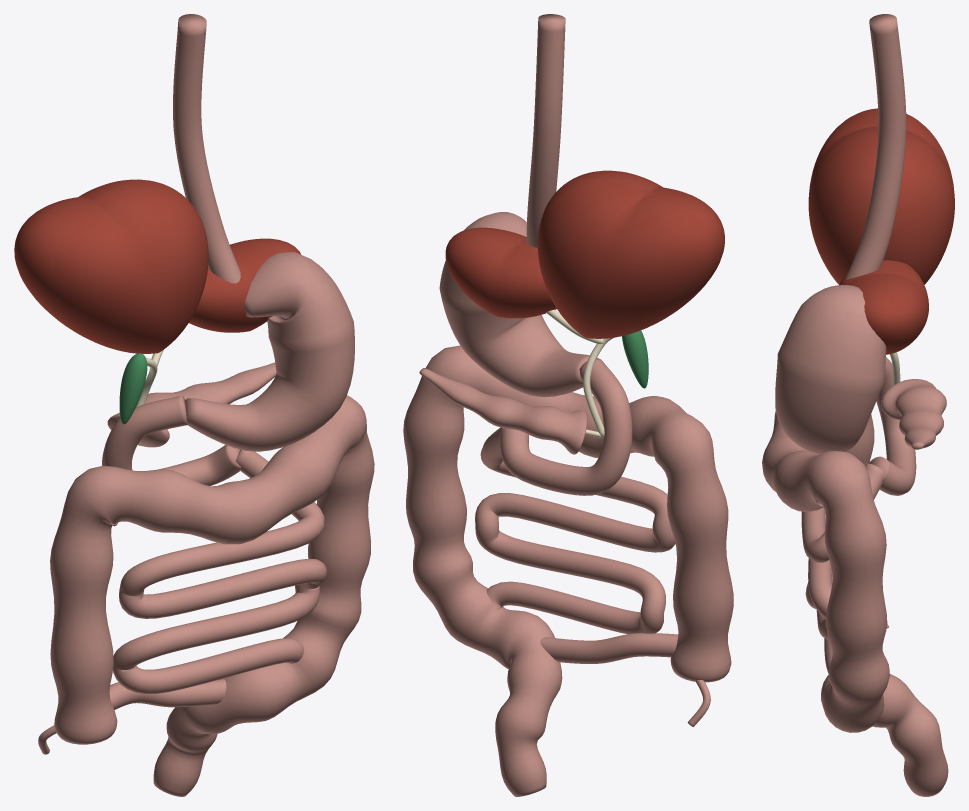
File: digestive-tract.glb
3 views of the same model, side by side, from view 1: azimuth 30°, elevation 25°; view 2: azimuth 150°, elevation 25°; view 3: azimuth 270°, elevation 25° (orthographic). The views are drawn at different scales.
Parts seen in each view (by area): view 1: Caecum colon sigmoid and rectum, Liver larger anatomical right lobe, Continuous simplified jejunum and ileum, Stomach cardia fundus body antrum and pylorus, Oesophagus into gastric cardia, Duodenal C loop and duodenojejunal flexure, Liver tapering left lobe, Pancreas lobulated head body and tapered tail, Gallbladder attached below liver; view 2: Caecum colon sigmoid and rectum, Liver larger anatomical right lobe, Continuous simplified jejunum and ileum, Stomach cardia fundus body antrum and pylorus, Liver tapering left lobe, Duodenal C loop and duodenojejunal flexure, Oesophagus into gastric cardia, Pancreas lobulated head body and tapered tail, Gallbladder attached below liver, Cystic duct and common bile duct; view 3: Caecum colon sigmoid and rectum, Liver larger anatomical right lobe, Stomach cardia fundus body antrum and pylorus, Oesophagus into gastric cardia, Liver tapering left lobe, Pancreas lobulated head body and tapered tail, Continuous simplified jejunum and ileum, Duodenal C loop and duodenojejunal flexure.
Part boxes in pixels (<box>): Caecum colon sigmoid and rectum: <box>50,395,374,796</box>; Liver larger anatomical right lobe: <box>14,179,208,353</box>; Continuous simplified jejunum and ileum: <box>109,449,326,709</box>; Stomach cardia fundus body antrum and pylorus: <box>185,251,354,451</box>; Oesophagus into gastric cardia: <box>173,14,240,283</box>; Duodenal C loop and duodenojejunal flexure: <box>102,395,241,485</box>; Liver tapering left lobe: <box>189,238,301,332</box>; Pancreas lobulated head body and tapered tail: <box>107,362,276,447</box>; Gallbladder attached below liver: <box>119,353,147,424</box>; Caecum colon sigmoid and rectum: <box>403,345,733,796</box>; Liver larger anatomical right lobe: <box>537,170,724,338</box>; Continuous simplified jejunum and ileum: <box>475,427,678,663</box>; Stomach cardia fundus body antrum and pylorus: <box>439,212,598,397</box>; Liver tapering left lobe: <box>445,227,556,318</box>; Duodenal C loop and duodenojejunal flexure: <box>500,358,632,495</box>; Oesophagus into gastric cardia: <box>526,14,565,247</box>; Pancreas lobulated head body and tapered tail: <box>419,368,587,454</box>; Gallbladder attached below liver: <box>622,330,648,388</box>; Cystic duct and common bile duct: <box>583,337,613,436</box>; Caecum colon sigmoid and rectum: <box>762,411,948,796</box>; Liver larger anatomical right lobe: <box>808,108,954,284</box>; Stomach cardia fundus body antrum and pylorus: <box>775,285,886,454</box>; Oesophagus into gastric cardia: <box>845,14,906,279</box>; Liver tapering left lobe: <box>839,260,928,354</box>; Pancreas lobulated head body and tapered tail: <box>881,379,946,449</box>; Continuous simplified jejunum and ileum: <box>801,463,884,673</box>; Duodenal C loop and duodenojejunal flexure: <box>869,357,916,495</box>.
Size of the model in its own units: 0.2842 by 0.6408 by 0.1452.
5 materials, 5 textured.
